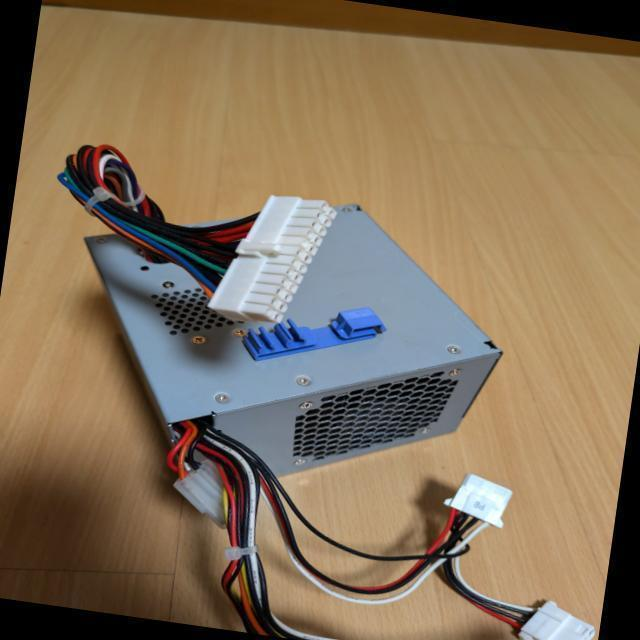PSU: (50, 166, 523, 536)
